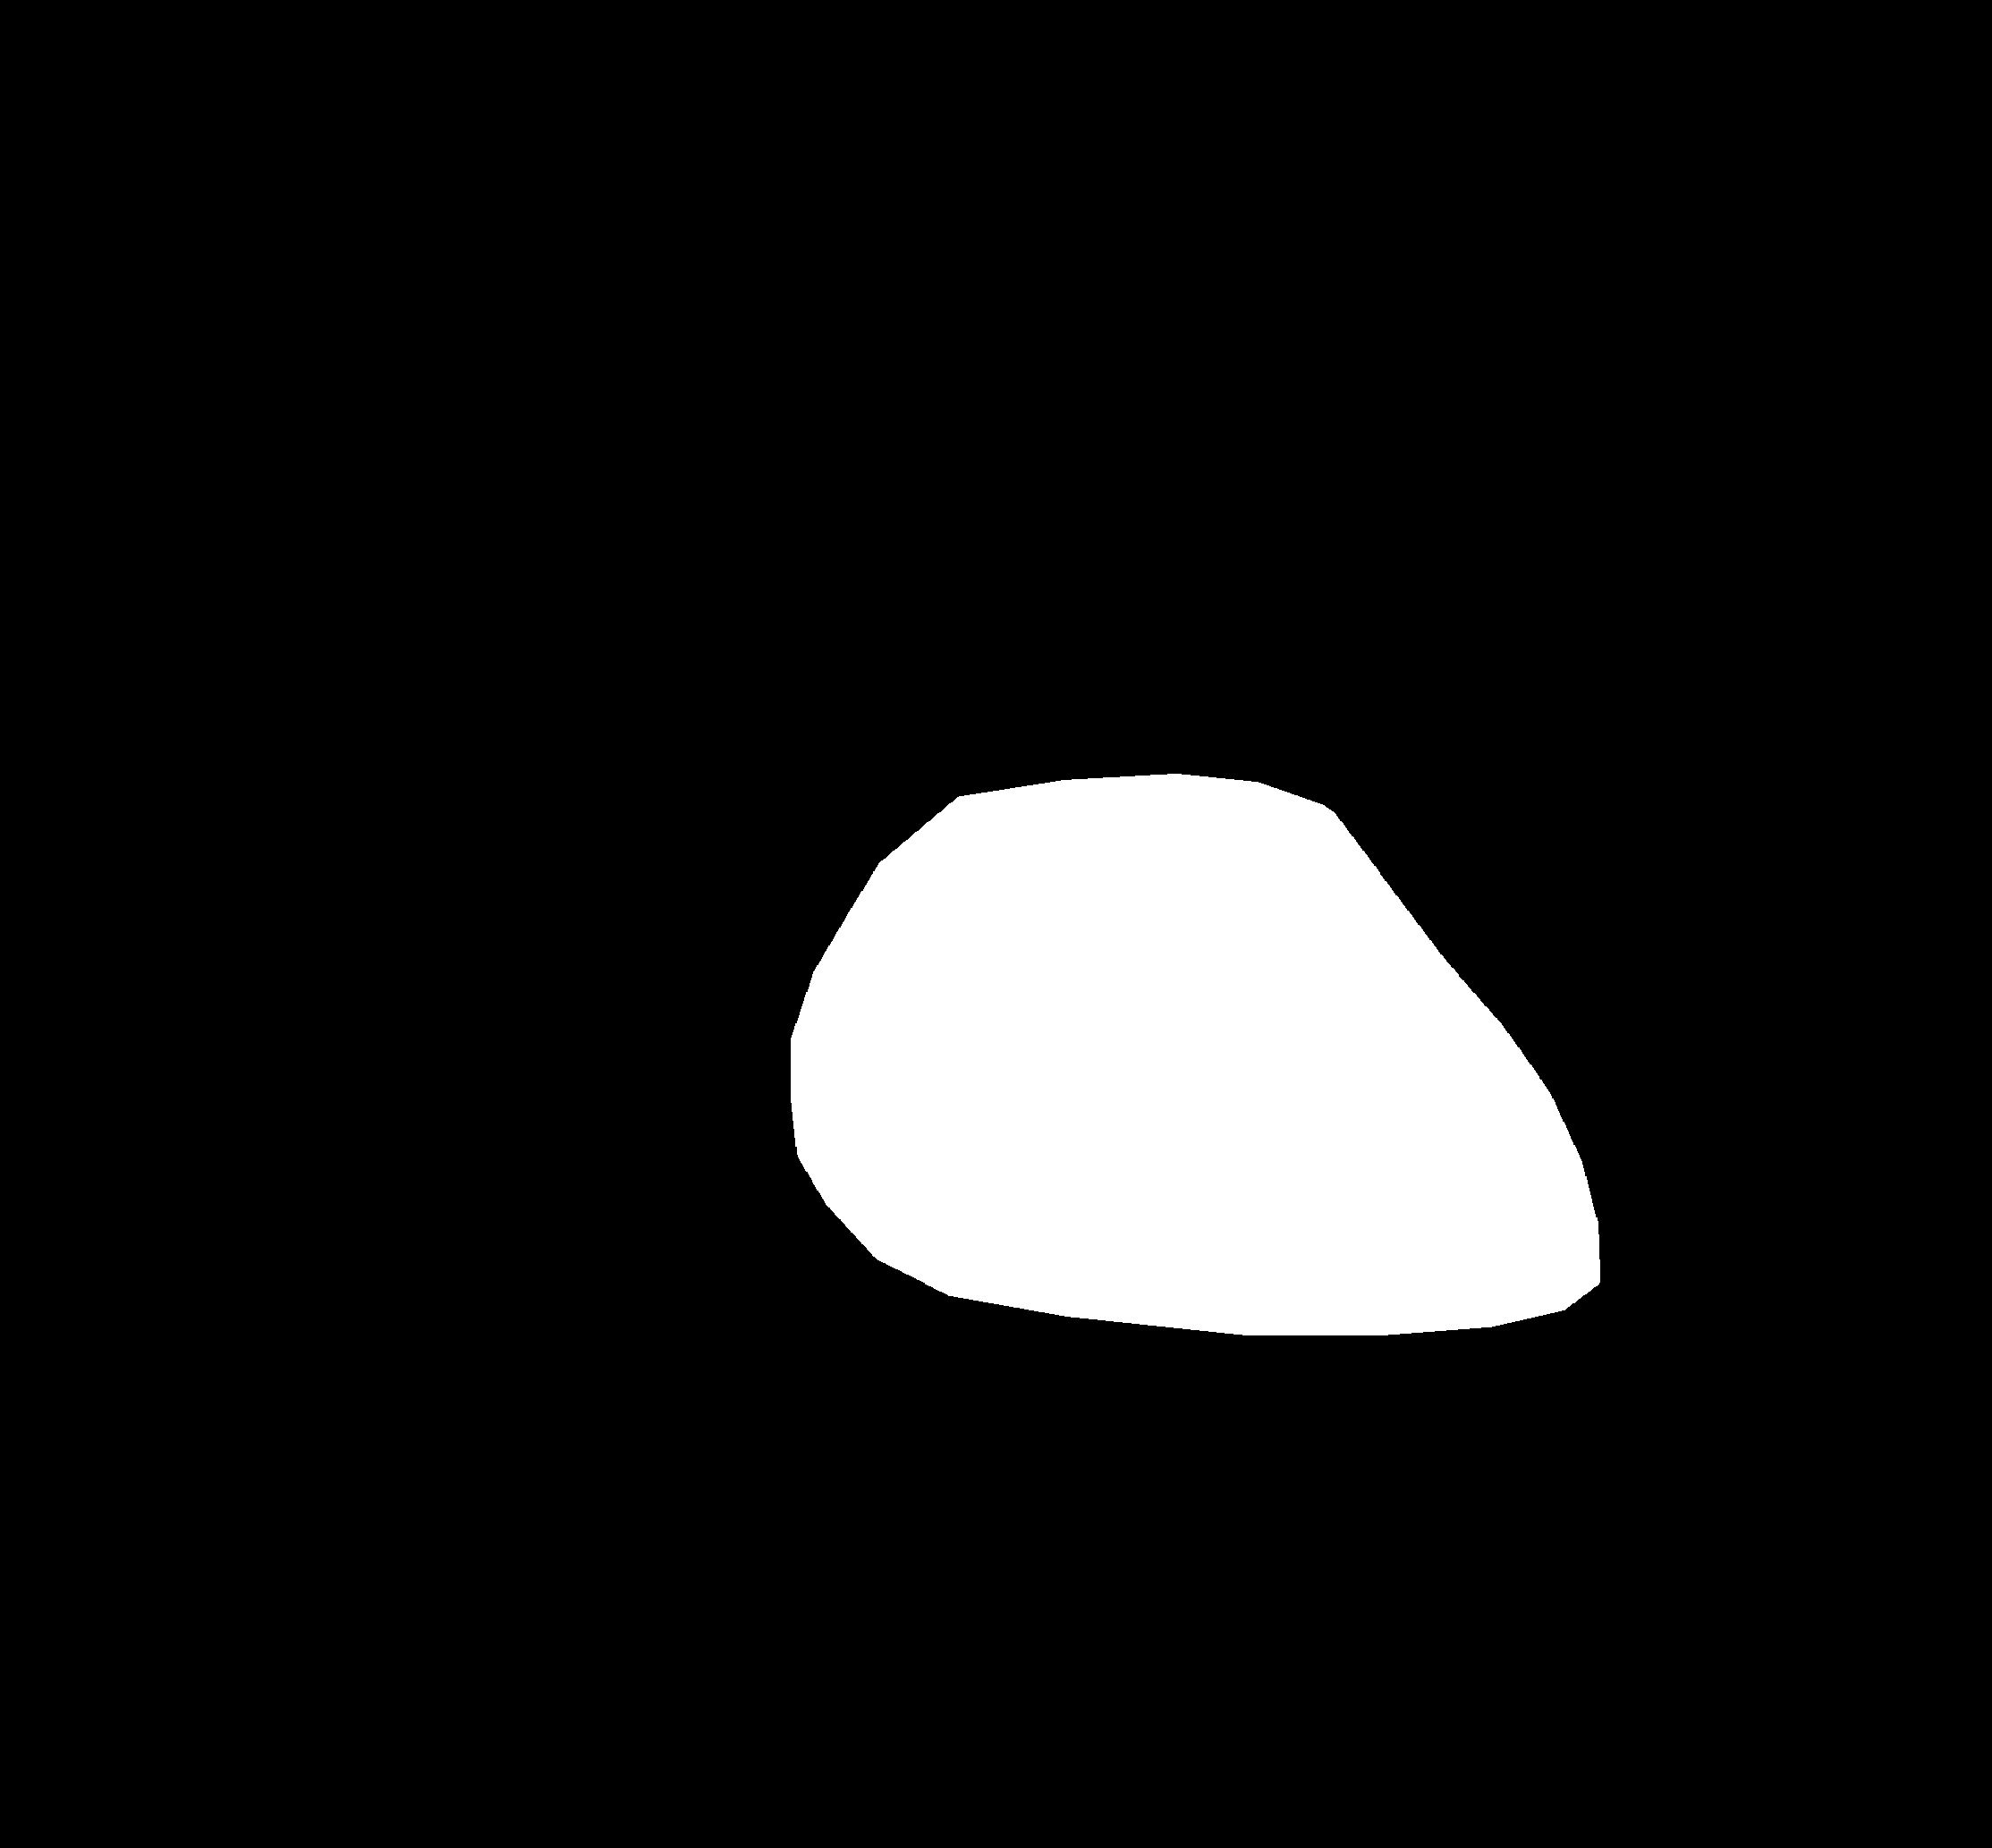heart: (787, 844, 1594, 1381)
left_lung: (203, 26, 992, 1480)
right_lung: (1155, 45, 1843, 1478)
